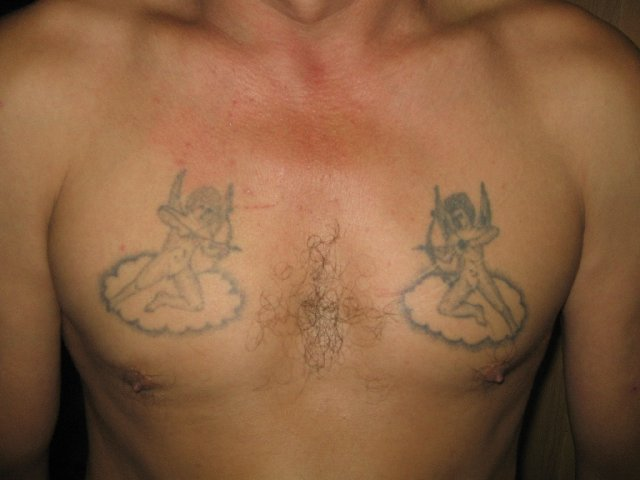tatu1_angel: (95, 160, 266, 352), (390, 185, 542, 351)
